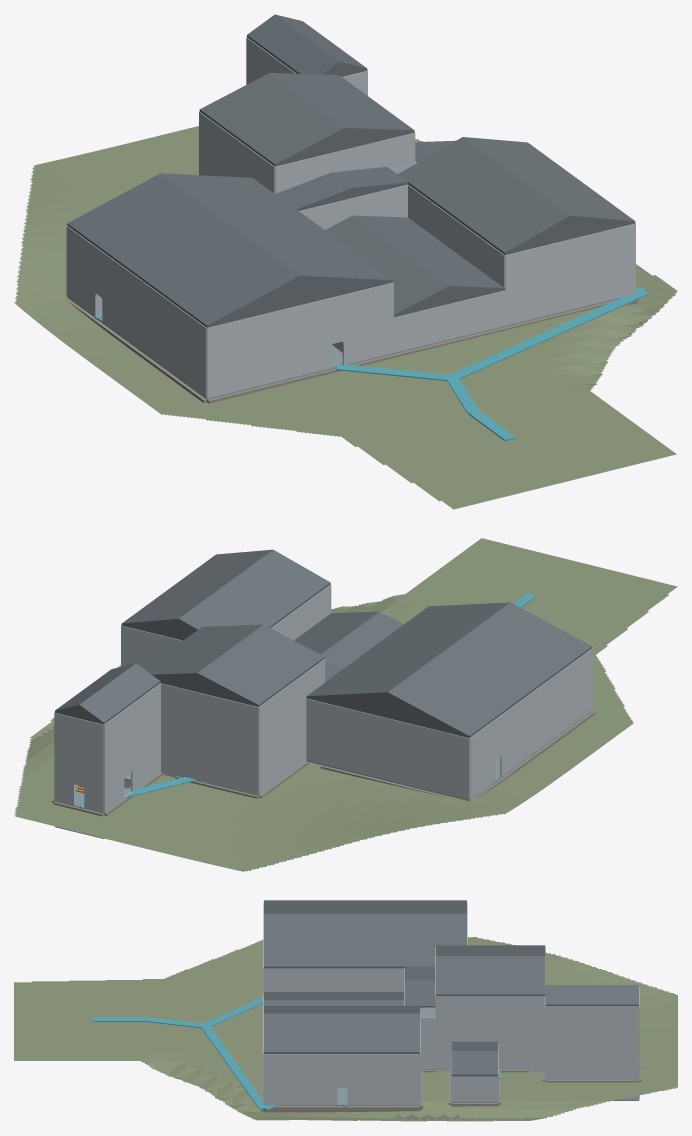
The model's file is enclosed-roofs.glb.
3 renders of one model, top to bottom at view 1: azimuth 30°, elevation 25°; view 2: azimuth 150°, elevation 25°; view 3: azimuth 270°, elevation 25°, orthographic. The views are drawn at different scales.
Visible parts, largest first — view 1: Saved editor macroterrain MANSION, main roof west, ballroom roof west, Wall ballroom S, main roof east, attic roof west, ballroom roof east, Wall morning S, east-reception roof west, Wall drawing S, east-reception roof east, attic roof east (+30 smaller); view 2: Saved editor macroterrain MANSION, main roof west, main roof east, ballroom roof west, attic roof west, ballroom roof east, Wall library N, attic roof east, Wall archive N, stair-tower roof west, Wall guest-a N, main gable north (+36 smaller); view 3: Saved editor macroterrain MANSION, main roof east, ballroom roof east, attic roof east, Flat route shell Wall ballroom E, Flat route shell Wall ballroom E.001, Flat route shell Wall gallery E.001, Wall upper-service E, main roof west, Wall service-stair E, Wall upper-service-stair E, Wall attic-passage E (+15 smaller).
Part boxes in pixels (<box>): Saved editor macroterrain MANSION: <box>14,126,677,509</box>; main roof west: <box>67,173,299,327</box>; ballroom roof west: <box>397,137,570,254</box>; Wall ballroom S: <box>505,223,635,325</box>; main roof east: <box>161,173,393,282</box>; attic roof west: <box>199,73,344,166</box>; ballroom roof east: <box>463,137,635,223</box>; Wall morning S: <box>393,290,505,352</box>; east-reception roof west: <box>325,215,448,316</box>; Wall drawing S: <box>207,336,319,398</box>; east-reception roof east: <box>353,215,504,289</box>; attic roof east: <box>270,73,414,132</box>; Saved editor macroterrain MANSION: <box>14,538,677,871</box>; main roof west: <box>387,602,592,737</box>; main roof east: <box>306,602,509,697</box>; ballroom roof west: <box>179,549,330,630</box>; attic roof west: <box>197,624,324,706</box>; ballroom roof east: <box>121,549,272,625</box>; Wall library N: <box>371,745,469,799</box>; attic roof east: <box>144,624,262,676</box>; Wall archive N: <box>161,683,258,732</box>; stair-tower roof west: <box>79,663,160,724</box>; Wall guest-a N: <box>403,722,469,768</box>; main gable north: <box>307,694,468,737</box>; Saved editor macroterrain MANSION: <box>14,937,677,1121</box>; main roof east: <box>264,913,466,967</box>; ballroom roof east: <box>264,1013,420,1053</box>; attic roof east: <box>436,956,545,996</box>; Flat route shell Wall ballroom E: <box>346,1054,420,1105</box>; Flat route shell Wall ballroom E.001: <box>264,1054,337,1105</box>; Flat route shell Wall gallery E.001: <box>264,968,403,991</box>; Wall upper-service E: <box>421,1017,544,1043</box>; main roof west: <box>264,900,466,913</box>; Wall service-stair E: <box>545,1053,638,1078</box>; Wall upper-service-stair E: <box>545,1028,638,1053</box>; Wall attic-passage E: <box>436,996,544,1017</box>.
Size of the model in its own units: 55 by 15.6 by 85.
